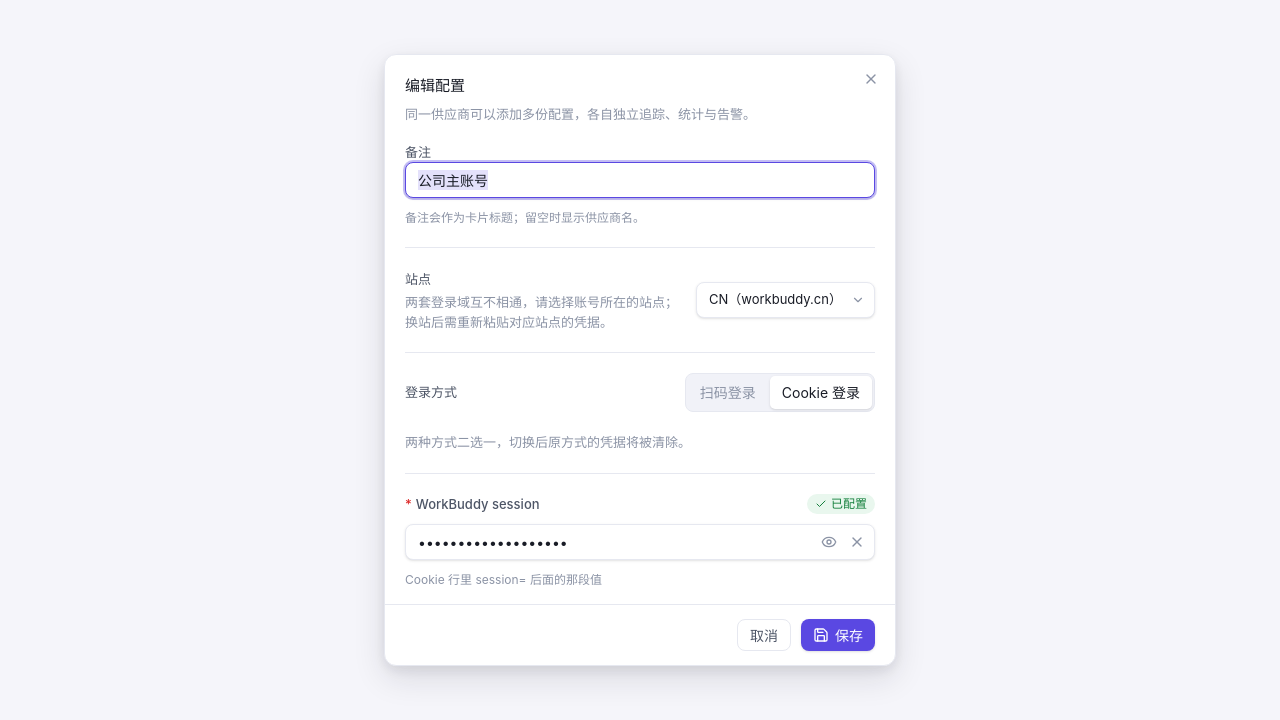
Scenario: 编辑已有实例：表单值就是事实源 › 点「清除」只清输入框：不写库，保存前什么都还没丢
Expected: the password field with id "slot-session" is not empty, [405,524,875,560]
Click the button named "清除" at {"x": 857, "y": 542}, box [843,528,871,556]
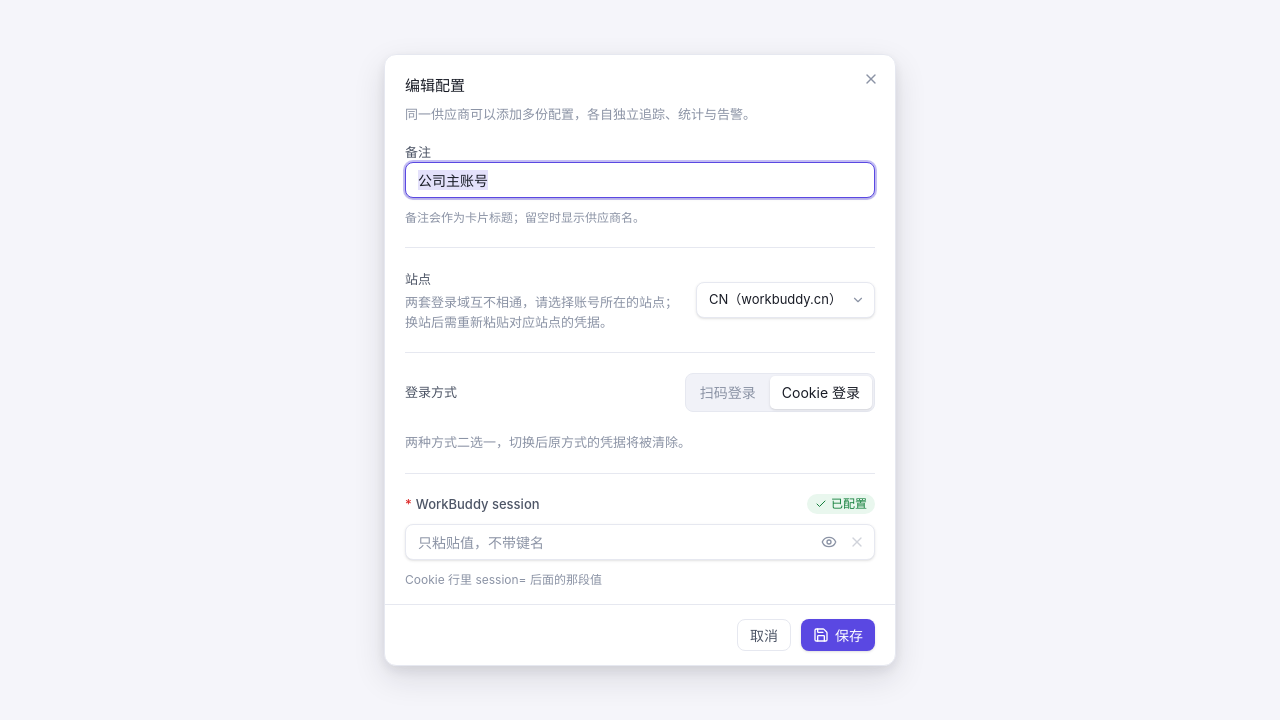
Result: the password field with id "slot-session" is empty at [405,524,875,560]
Click the button "保存" at {"x": 838, "y": 635}, box [801,619,875,651]
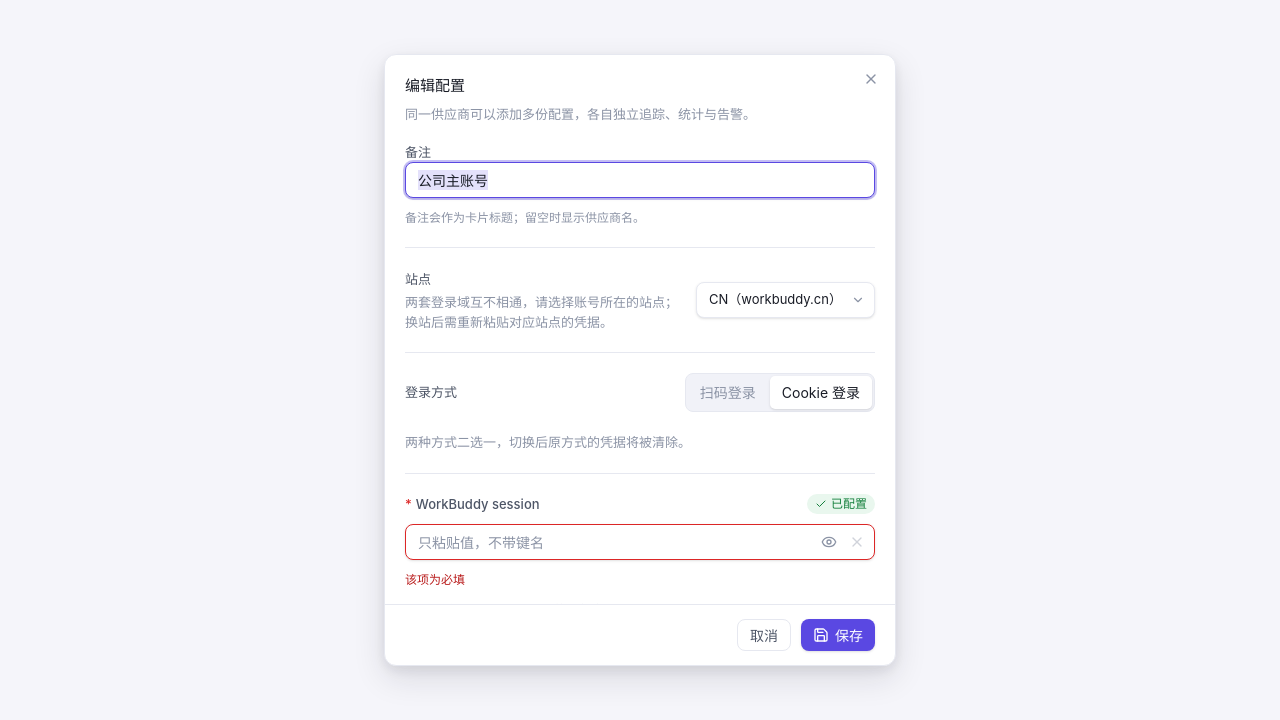
Result: the text "该项为必填" is shown at [405,572,465,587]
